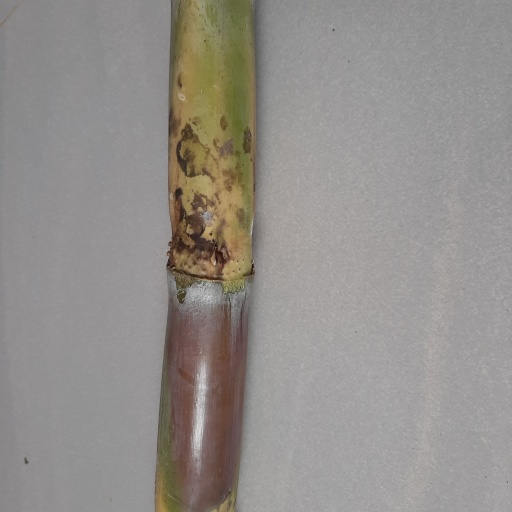Damage_Bud: (203, 252, 226, 278)
